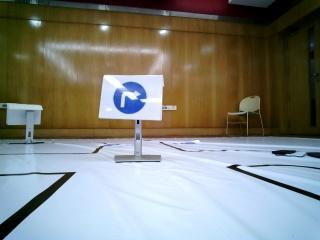right: (103, 76, 161, 117)
